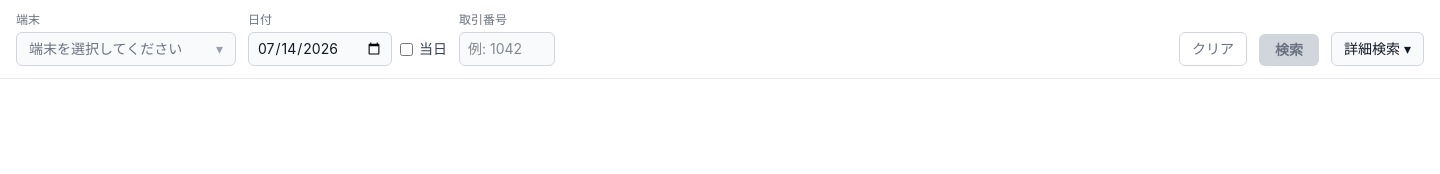
it: SearchBar › 端末を選択すると検索ボタンが有効になる
Click the button "端末を選択してください ▾": (126, 49) [16,32,236,66]
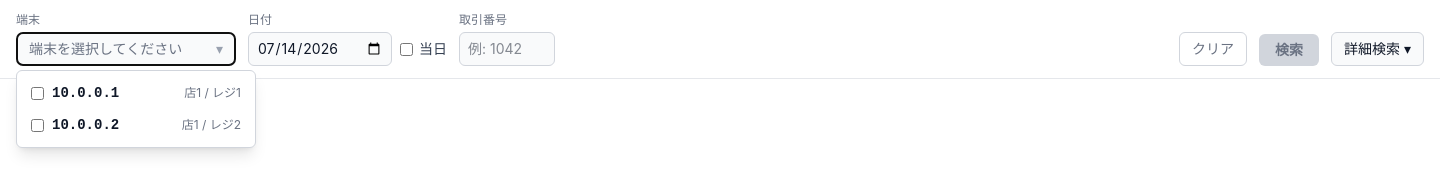
Click the text "10.0.0.1": (86, 93) [52,83,119,103]
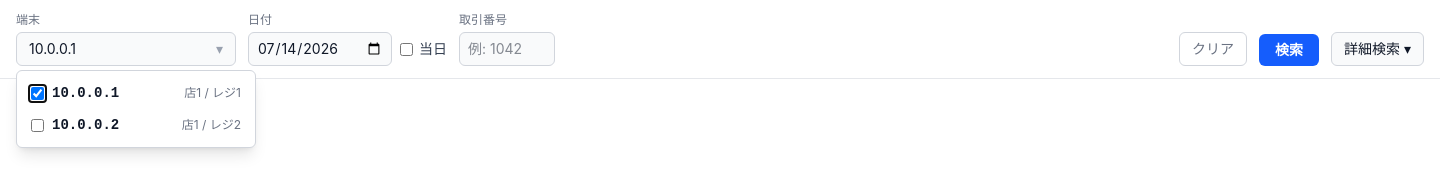
Now the button "検索" is enabled, box [1259,34,1319,66]
